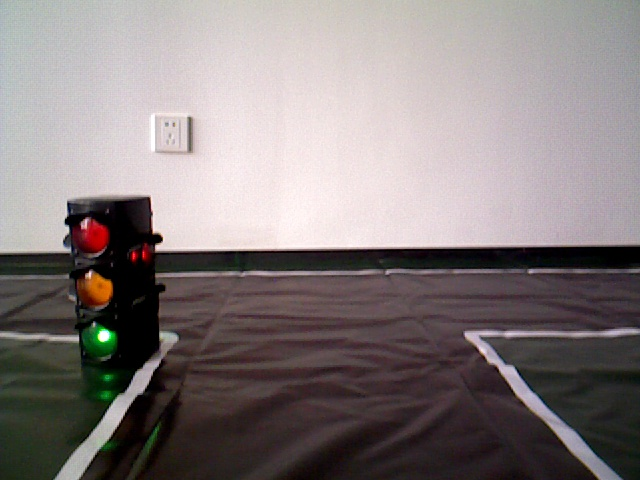green: (68, 202, 155, 355)
